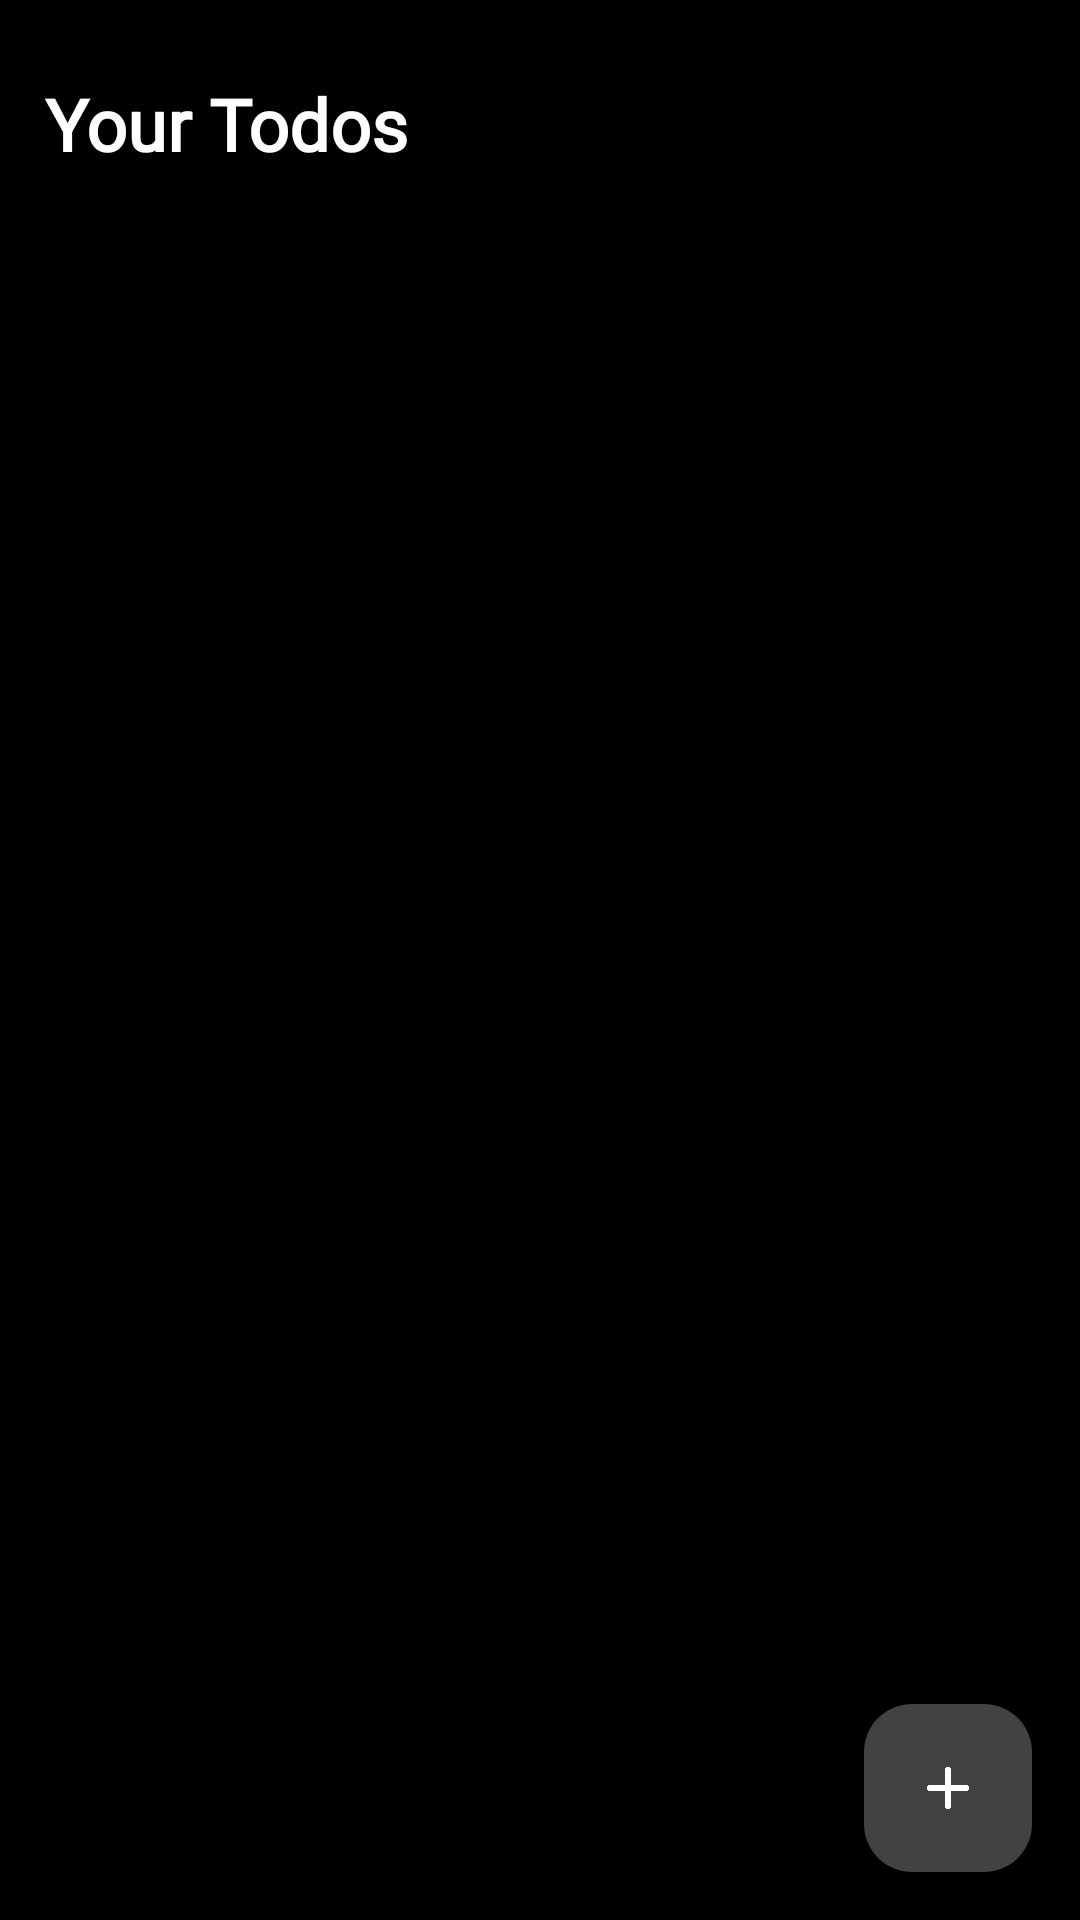

Icons on this 1080 × 1920 Android screen, each with its box as (x1, y1, x2, y2):
Add Task: (864, 1704, 1032, 1872)
